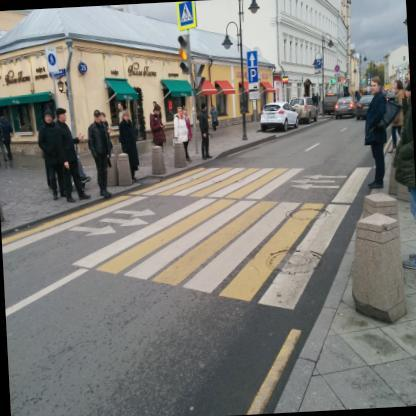road_sign: (176, 1, 197, 31), (246, 50, 258, 68), (248, 67, 258, 83)
traffic light: (178, 35, 192, 72)
